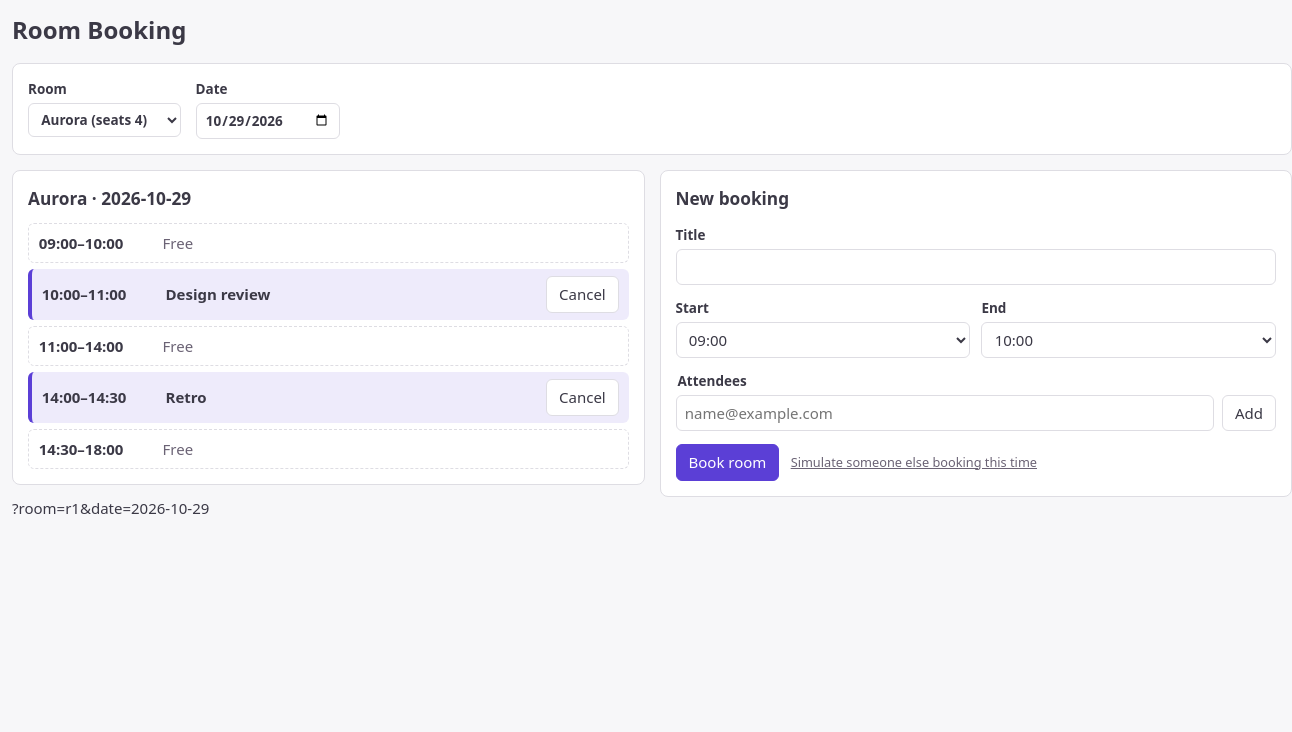
it: RoomBookingPage › blocks 10:30–11:30 over 10:00–11:00 next to the field, then books 11:00–12:00
The width and height of the screenshot is (1292, 732).
Type "Planning" into the field labelled "Title".
click(976, 267); type("Planning")  # box 676,249 -> 1276,285
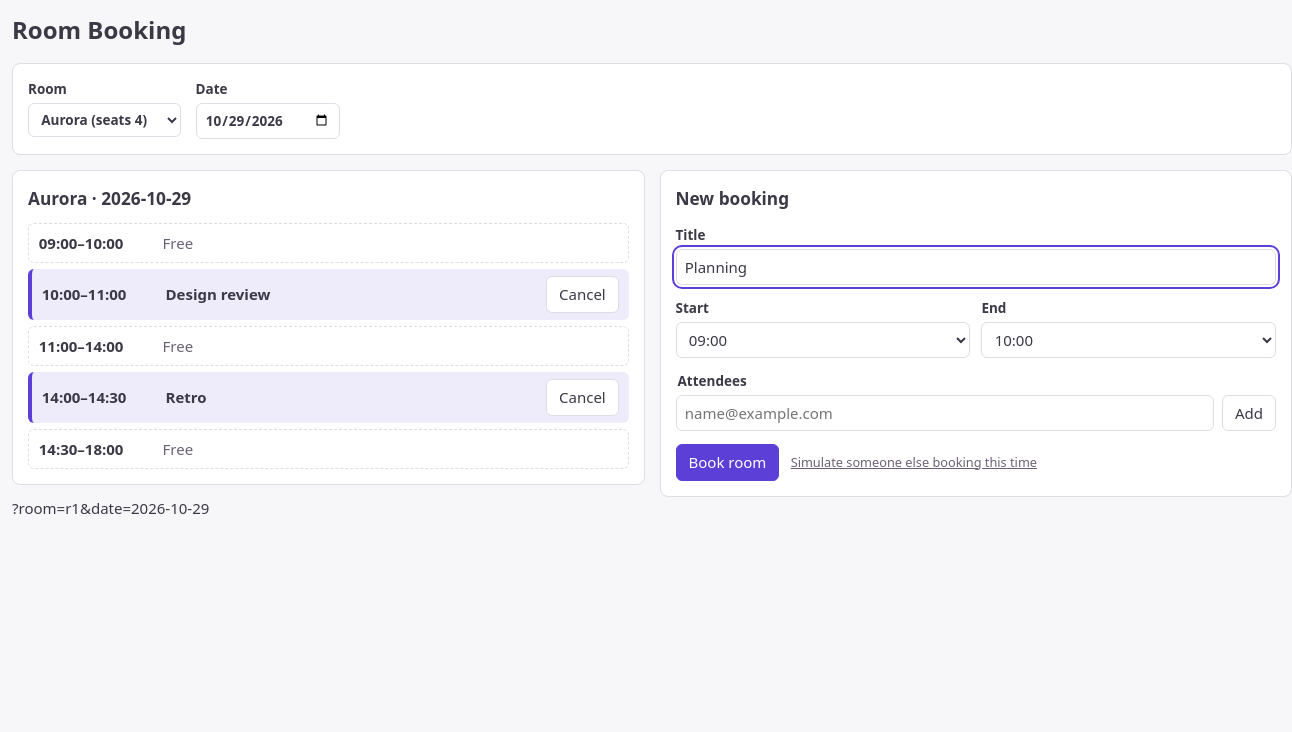
Select "10:30" in the dropdown labelled "Start" at (823, 340), box 676,322 -> 970,358
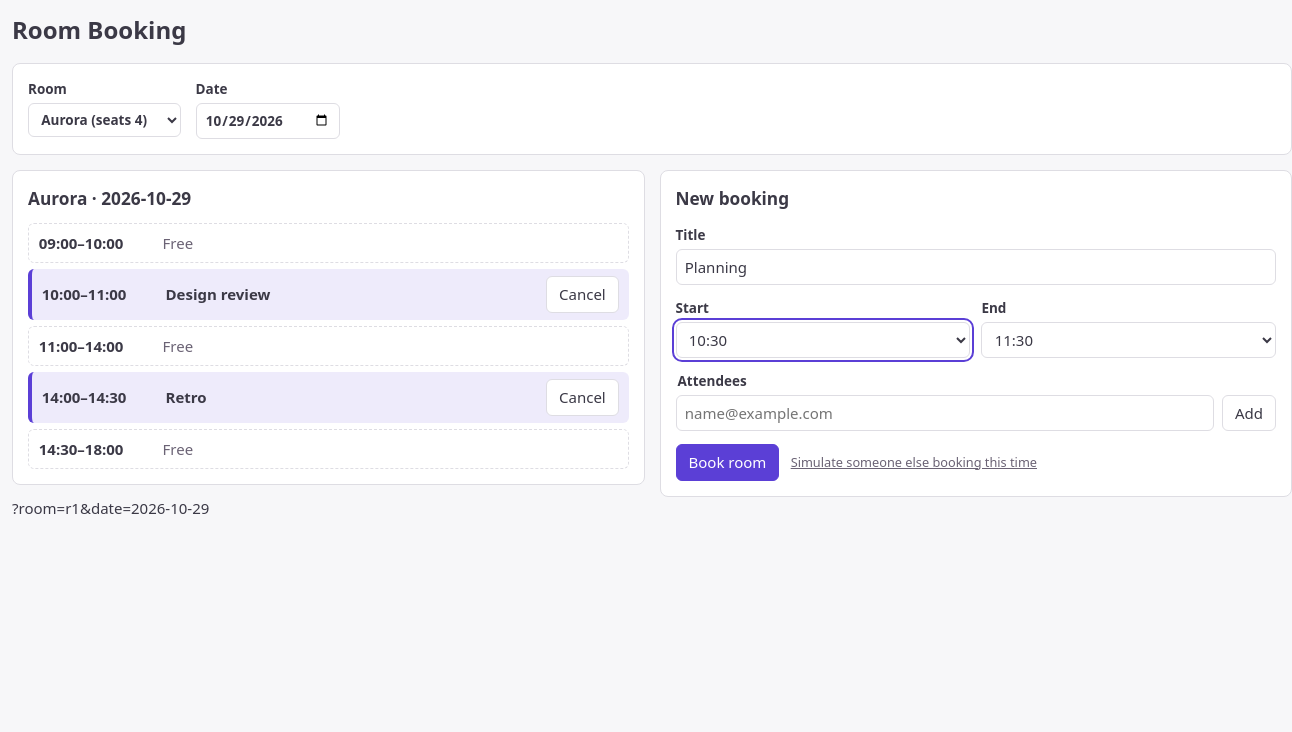
Now the dropdown labelled "End" shows "11:30", box 981,322 -> 1276,358
Click the button "Book room".
click(727, 462)  # box 676,444 -> 779,481
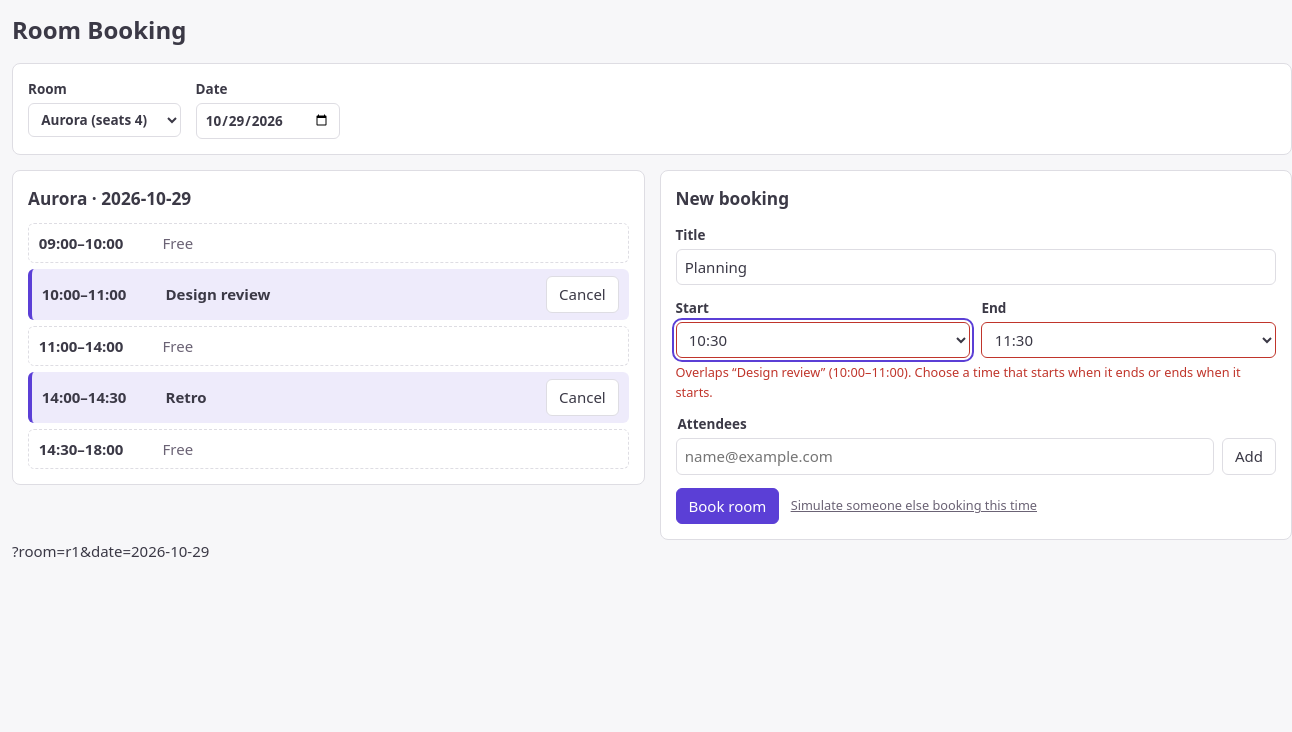
Select "11:00" in the dropdown labelled "Start" at (823, 340), box 676,322 -> 970,358
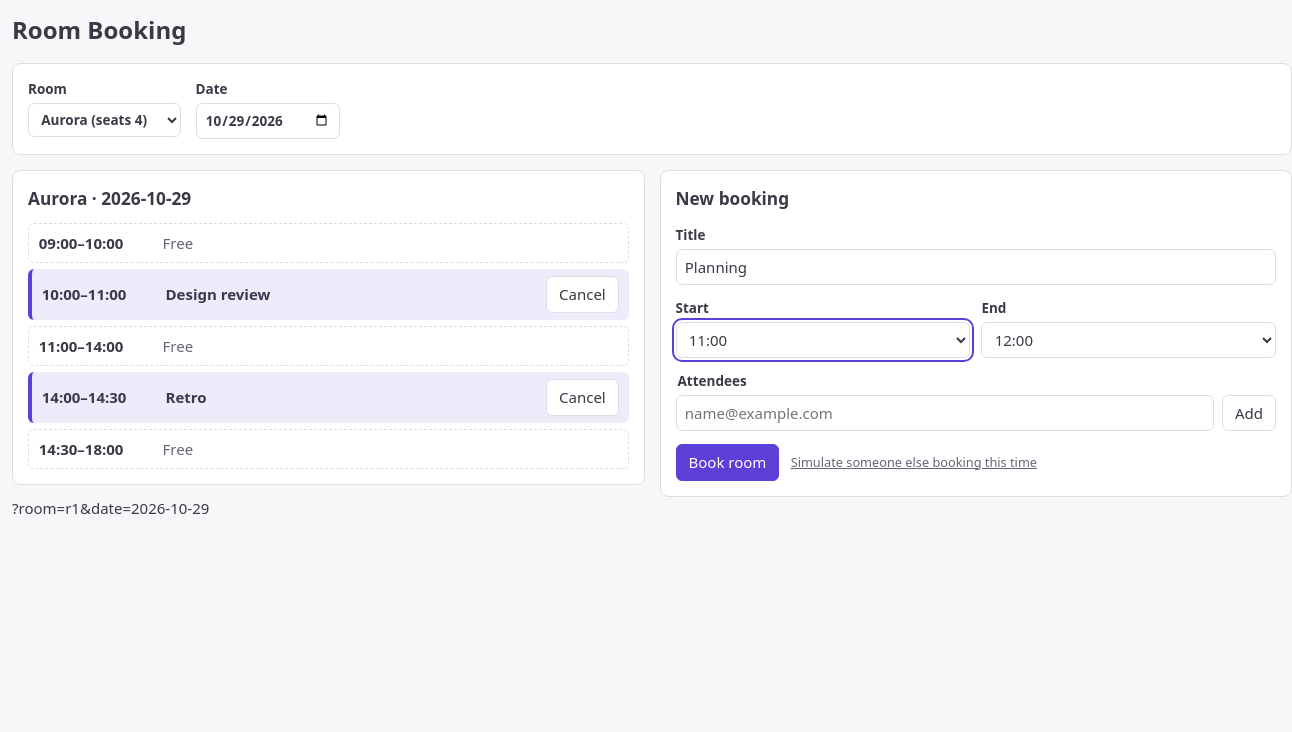
Now the text "Overlaps" is gone
Click the button "Book room".
click(727, 462)  # box 676,444 -> 779,481
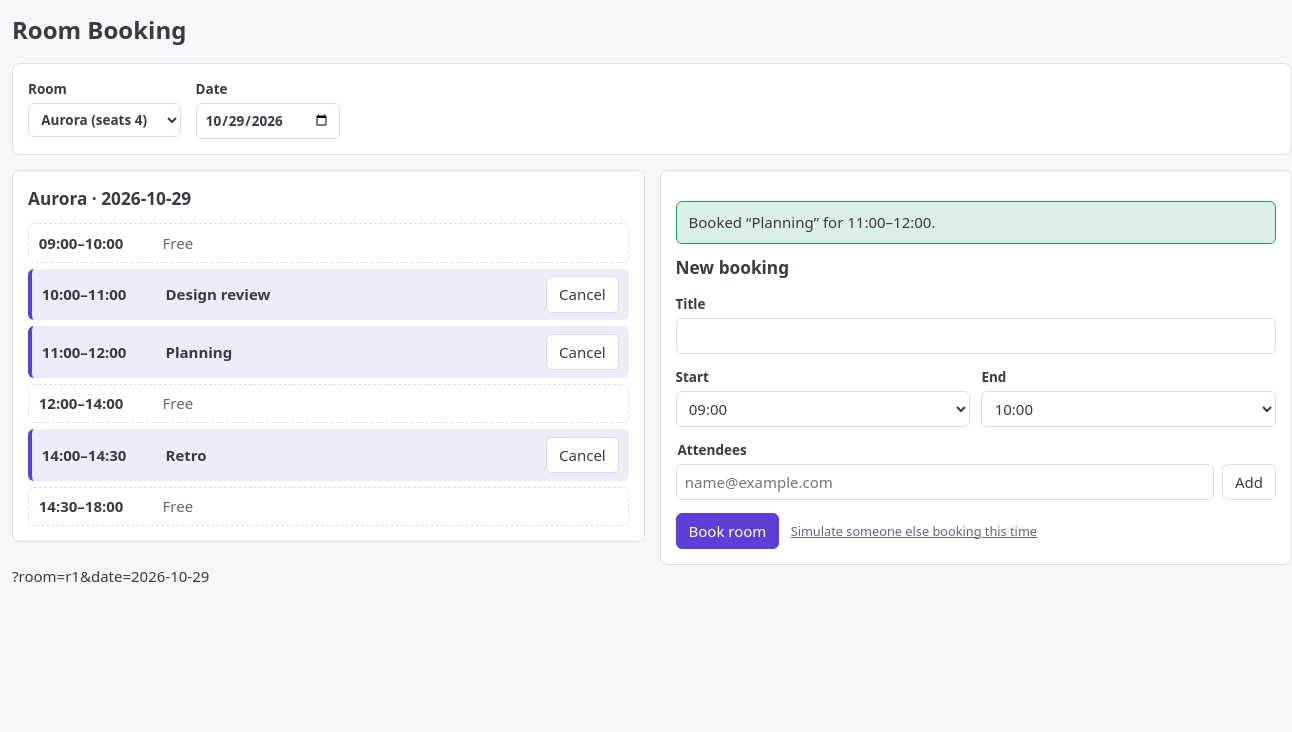
Now the text "Booked “Planning” for 11:00–12:00." is shown, box 676,201 -> 1276,244
Now the text "Planning" is shown, box 166,342 -> 232,362
